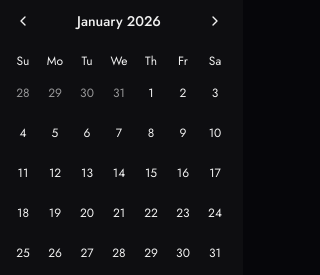
Calendar › selects a day when clicked
The image size is (320, 275).
Click the button named "15th": (151, 173) [135,157,167,189]
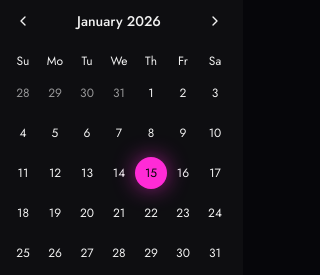
Now the button named "15th" has attribute data-selected-single="true", box [135,157,167,189]
